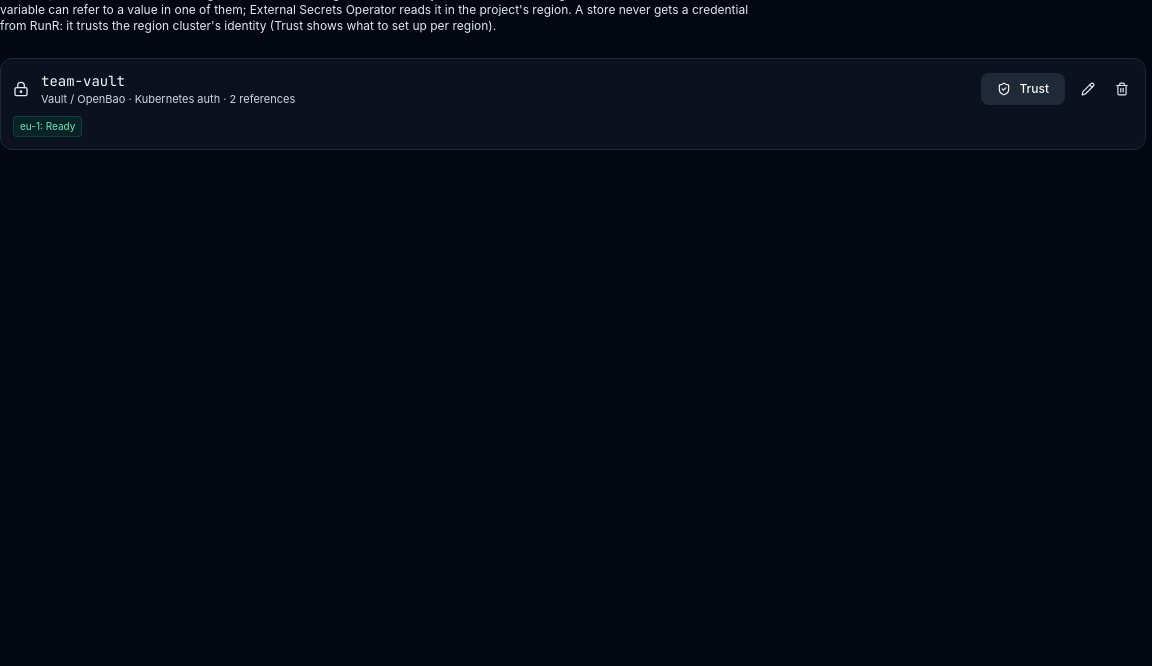
Scenario: SecretStoresManager › shows what the store has to trust in a region, with setup snippets
The image size is (1152, 666).
Click the button with test id "secret-store-trust-team-vault" at (1023, 89), box [981,73,1065,105]
(page scrolled)
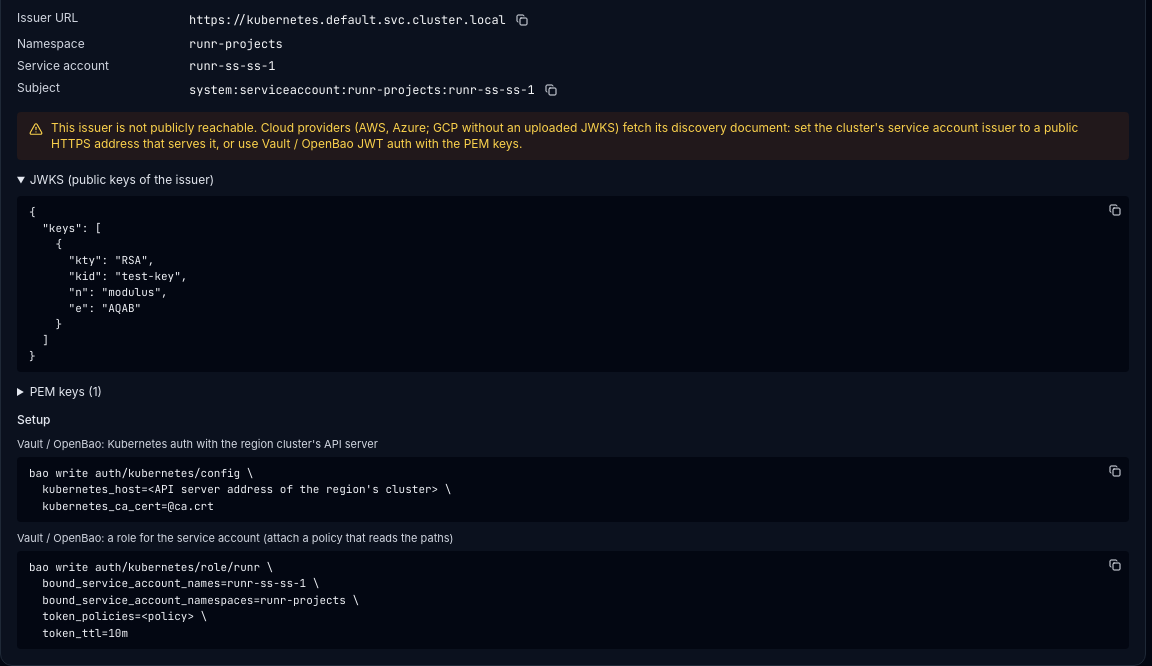
Now the element with test id "secret-store-trust-issuer" reads "https://kubernetes.default.svc.cluster.local", box [189,12,506,28]
Now the text with test id "secret-store-trust-sa" reads "runr-ss-ss-1", box [189,58,275,74]
Now the element with test id "secret-store-trust-subject" reads "system:serviceaccount:runr-projects:runr-ss-ss-1", box [189,82,535,98]
